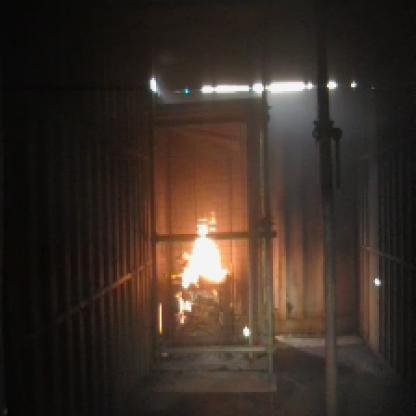Fire: (178, 212, 236, 312)
